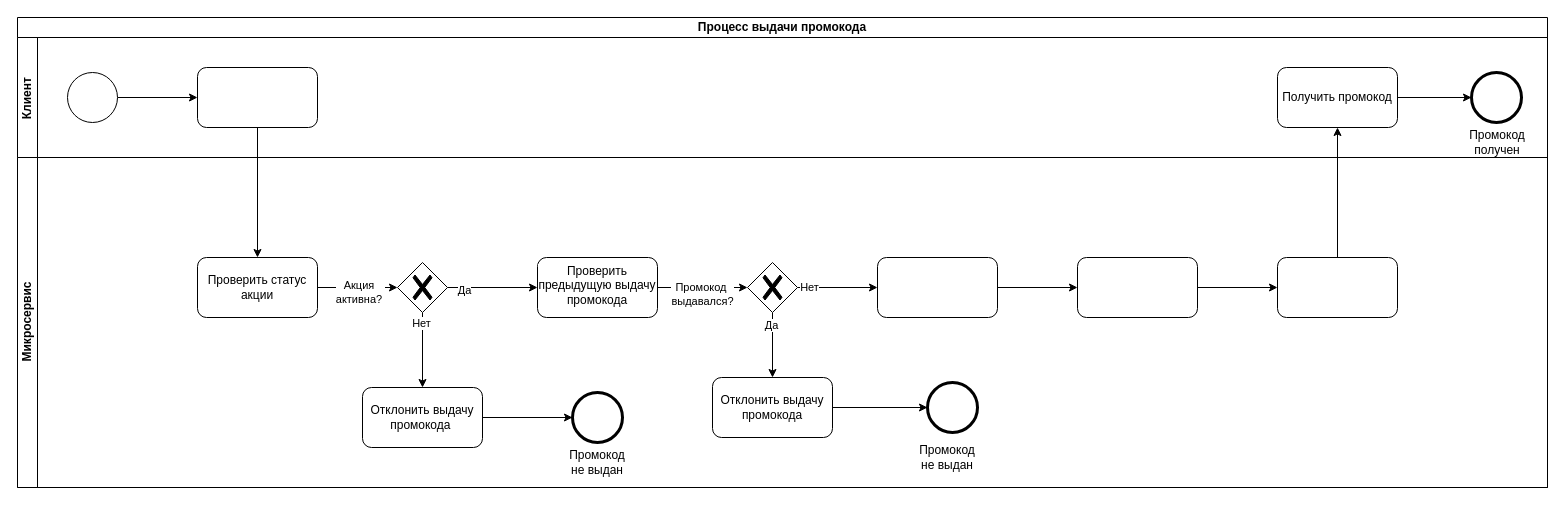
Image size: 1565x505. Some labels were removed from this diagram. The shapes that lost their labels are listed below. From the top down, each one's centre as x and y in pixels, then its label:
the point at 257,97: Запросить промокод
the point at 937,287: Получить свободный промокд
the point at 1137,287: Сохранить факт выдачи промокода
the point at 1337,287: Выдать промокод
